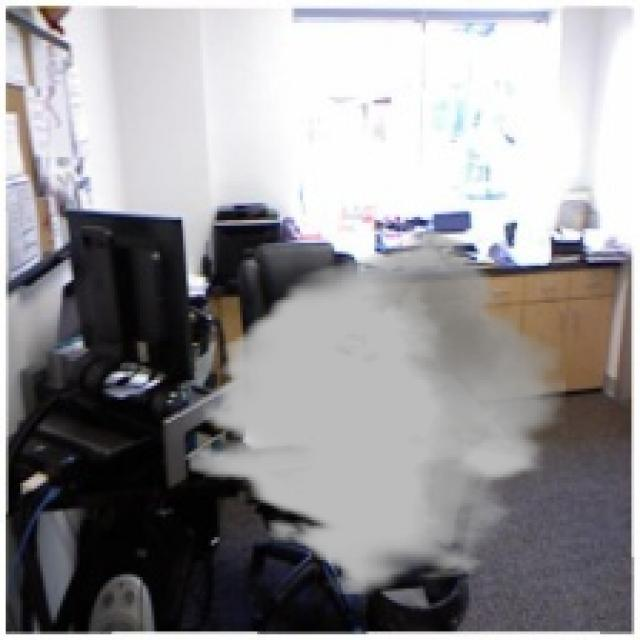smoke: (188, 229, 566, 597)
